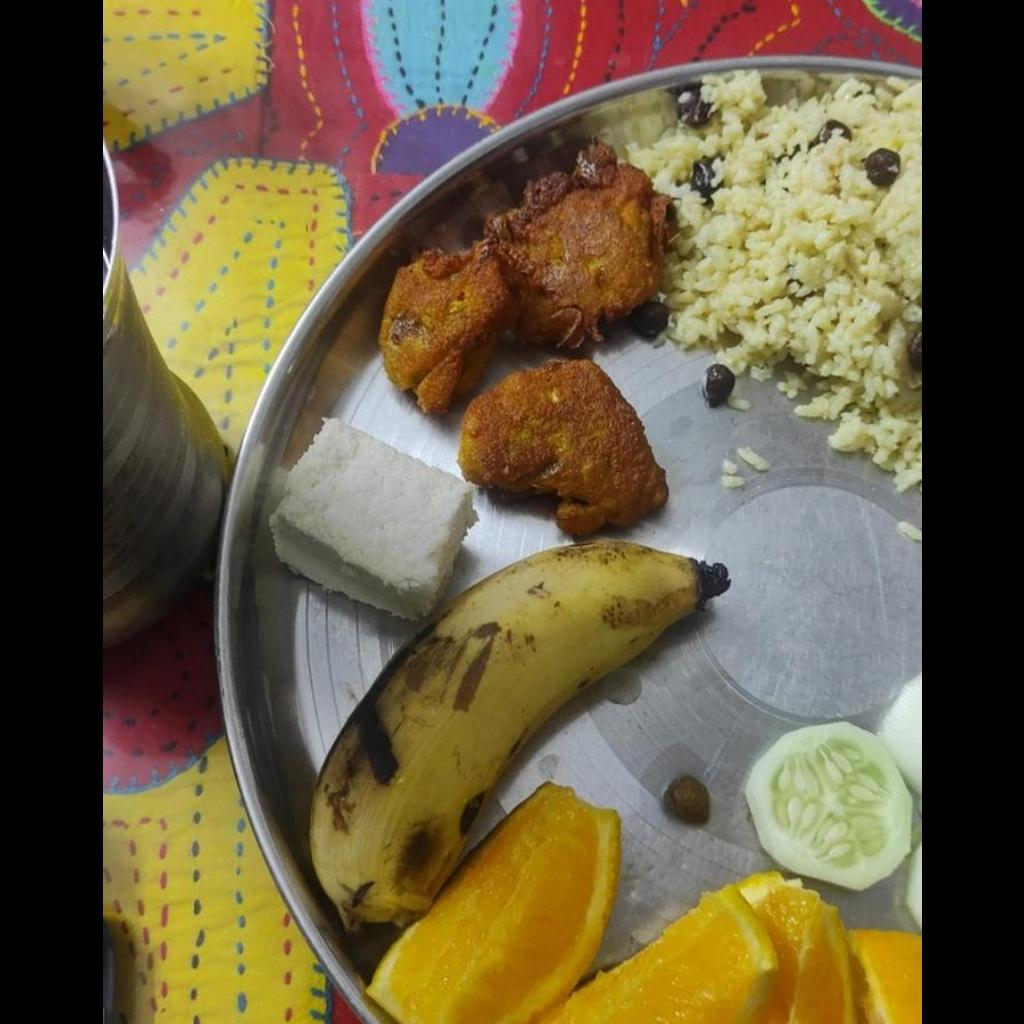banana: (307, 536, 708, 916)
biriyani: (630, 79, 920, 492)
chop-alu: (378, 158, 672, 527)
cucumber: (744, 673, 920, 926)
orange: (369, 782, 919, 1022)
sweets: (276, 420, 470, 609)
